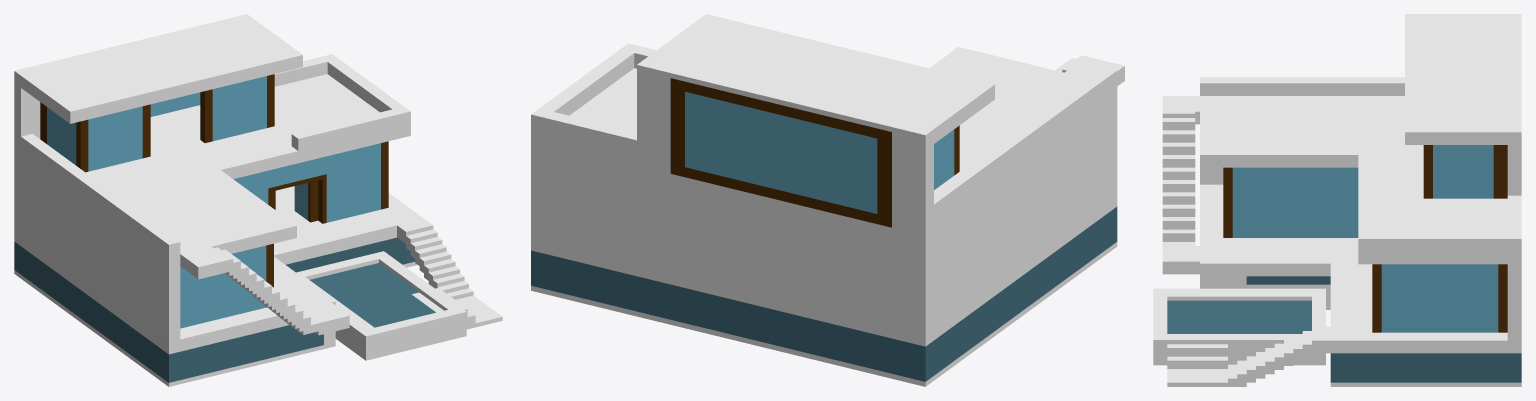
File: modern_building1.obj
3 renders of one model, left to right at view 1: azimuth 30°, elevation 25°; view 2: azimuth 150°, elevation 25°; view 3: azimuth 270°, elevation 25°, orthographic. The views are drawn at different scales.
Bounding box in the file's own units: 82 × 50 × 79.
Materials: 1 (1 with a texture image).
